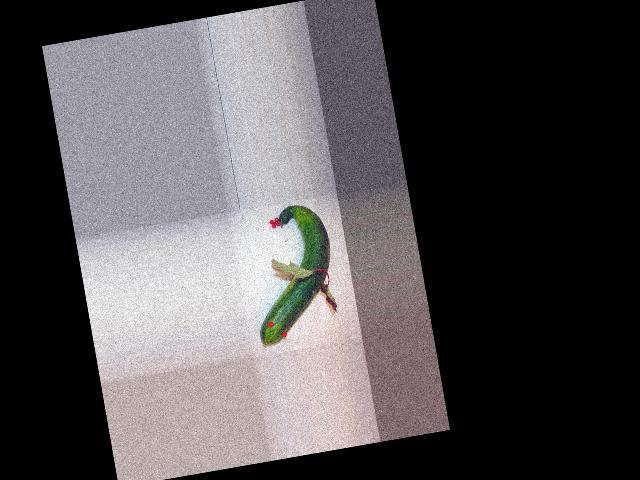cucumber: (239, 200, 344, 345)
